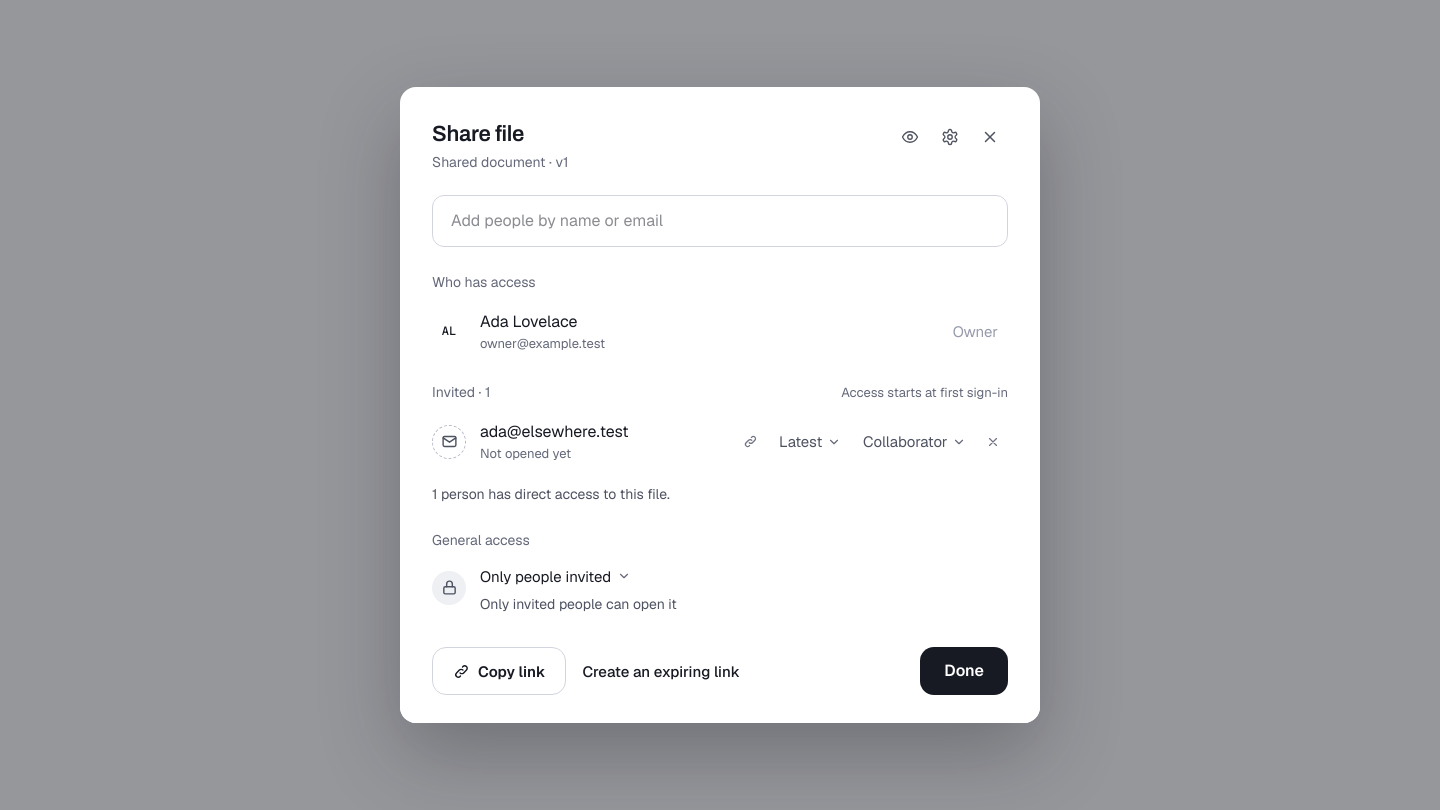
Scenario: ShareDialog › copies an invited person's link with ?invited=1 for the sharer to send
This screenshot has width=1440, height=810.
# After setup, which installs its own clipboard.
Click the button named "Copy link for ada@elsewhere.test": click(750, 442) [735,427,765,457]
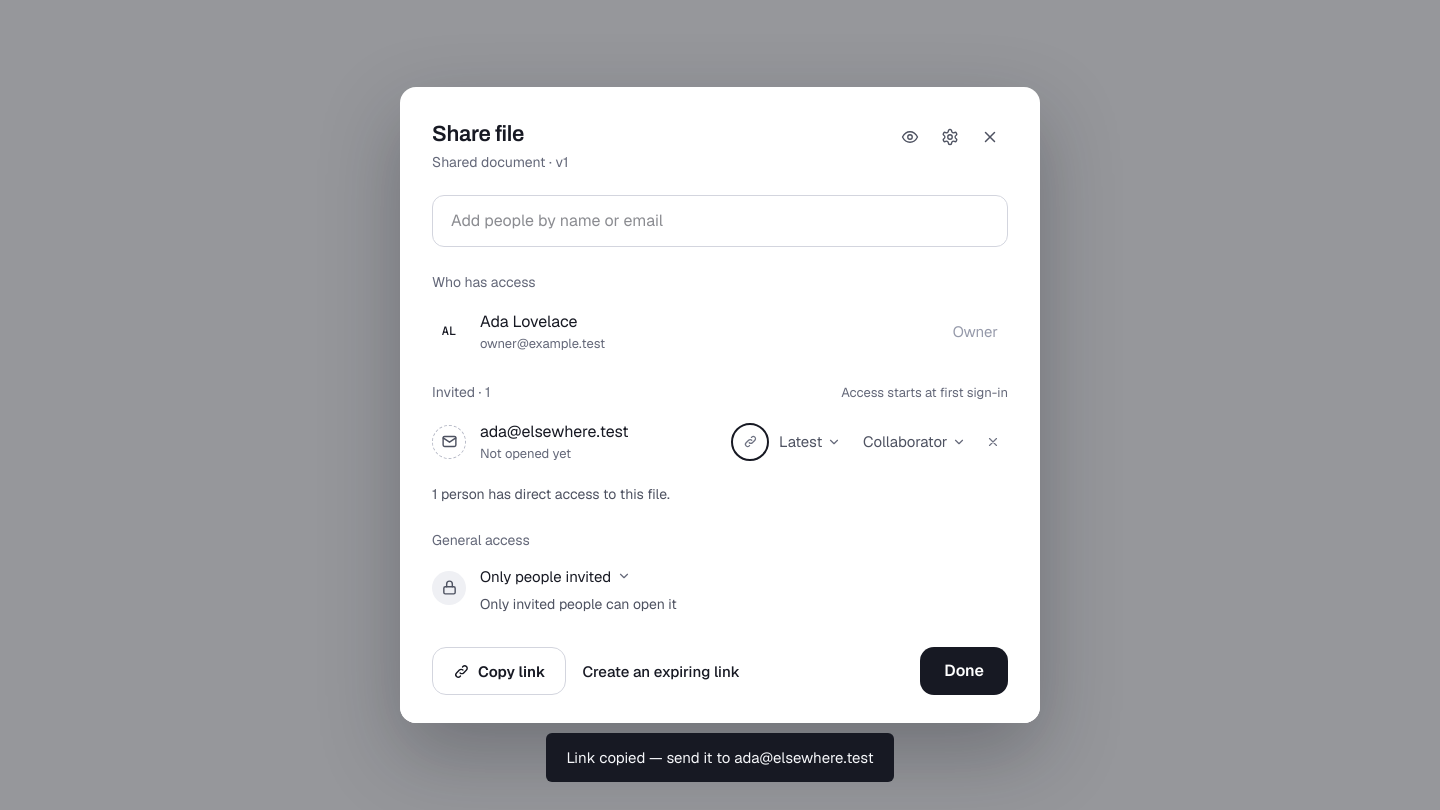
Check: the text "Link copied — send it to ada@elsewhere.test" is shown, box [546,733,894,782]
